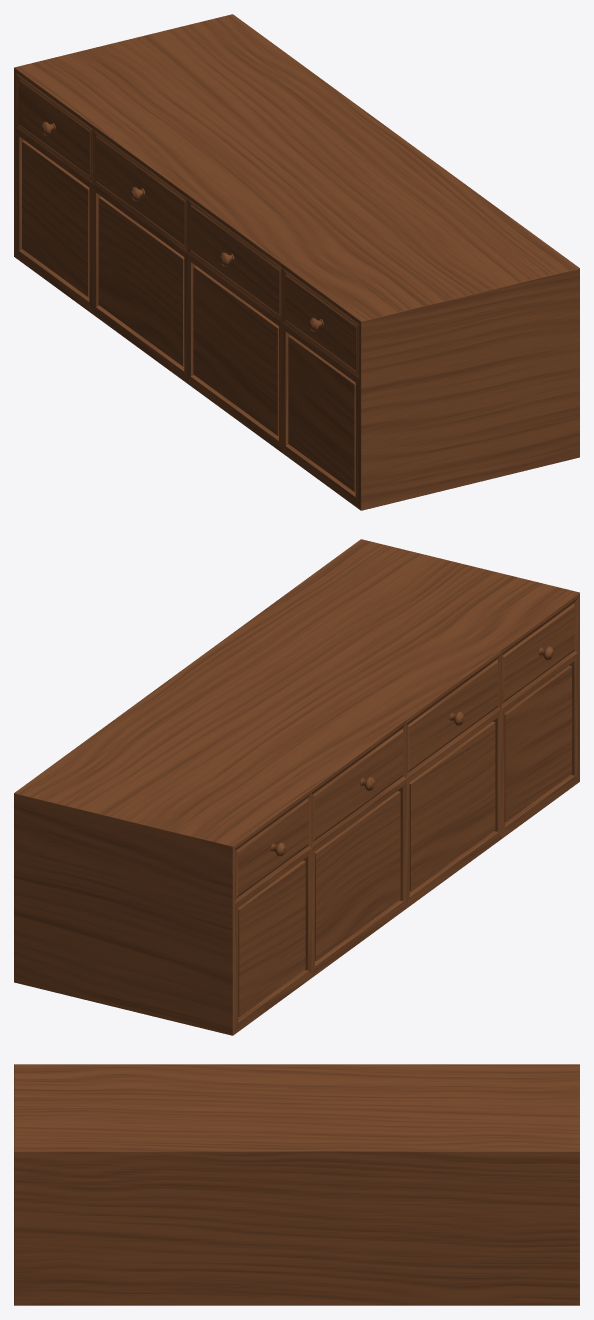
Rendered from M_Furniture_004.fbx.
The picture shows the model from 3 angles, top to bottom: view 1: azimuth 30°, elevation 25°; view 2: azimuth 150°, elevation 25°; view 3: azimuth 270°, elevation 25°; orthographic projection. The views are drawn at different scales.
Parts seen in each view (by area): view 1: M_Furniture_004; view 2: M_Furniture_004; view 3: M_Furniture_004.
Part boxes in pixels (<box>): M_Furniture_004: <box>14,14,579,510</box>; M_Furniture_004: <box>14,539,579,1035</box>; M_Furniture_004: <box>14,1064,579,1305</box>.
Size of the model in its own units: 71.44 by 56.08 by 186.
Materials: 1 (1 with a texture image).
